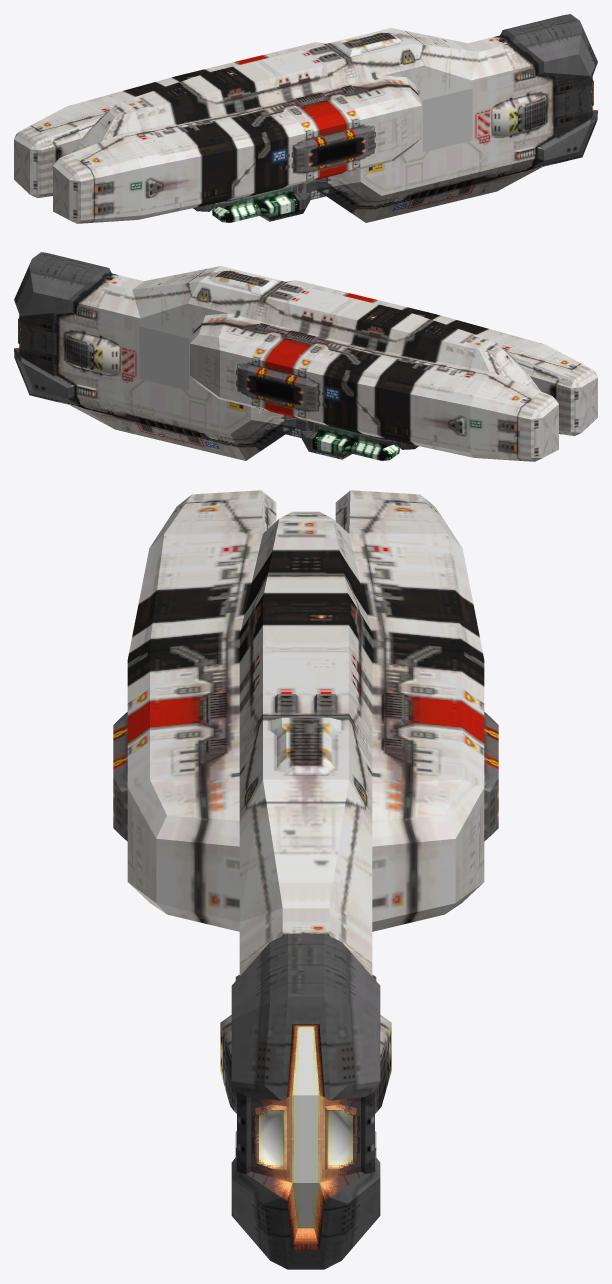
Rendered from Eriax_MK3_Corvette.FBX.
The picture shows the model from 3 angles, top to bottom: view 1: azimuth 30°, elevation 25°; view 2: azimuth 150°, elevation 25°; view 3: azimuth 270°, elevation 25°; orthographic projection. The views are drawn at different scales.
Visible parts, largest first — view 1: Missile Corvette; view 2: Missile Corvette; view 3: Missile Corvette.
Part boxes in pixels (left/top/right/bottom): Missile Corvette: left=14, top=14, right=597, bottom=223; Missile Corvette: left=14, top=252, right=597, bottom=461; Missile Corvette: left=113, top=490, right=498, bottom=1269.
Size of the model in its own units: 53.43 by 16.49 by 16.2.
